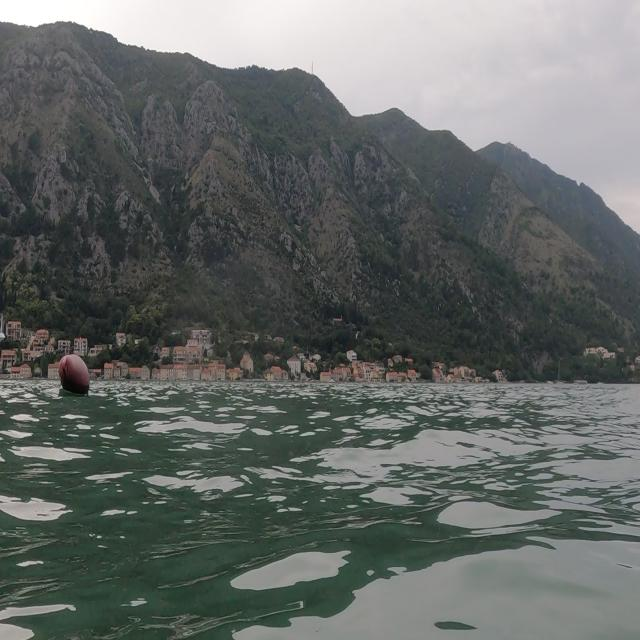buoy: (48, 346, 106, 406)
